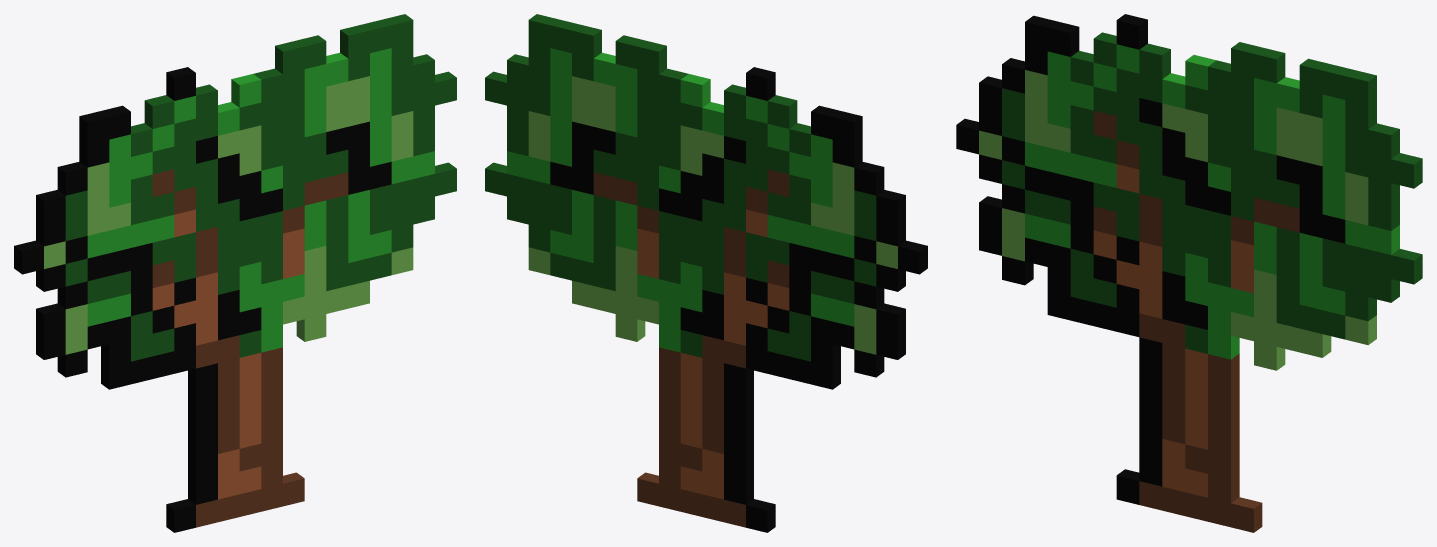
File: tree.glb
The picture shows the model from 3 angles, left to right: view 1: azimuth 30°, elevation 25°; view 2: azimuth 150°, elevation 25°; view 3: azimuth 330°, elevation 25°; orthographic projection. The views are drawn at different scales.
Visible parts, largest first — view 1: Plane.001; view 2: Plane.001; view 3: Plane.001.
Part boxes in pixels (left/top/right/bottom): Plane.001: left=14, top=14, right=456, bottom=532; Plane.001: left=485, top=14, right=927, bottom=532; Plane.001: left=956, top=14, right=1422, bottom=532.
Size of the model in its own units: 7.22 by 7.22 by 0.2352.
